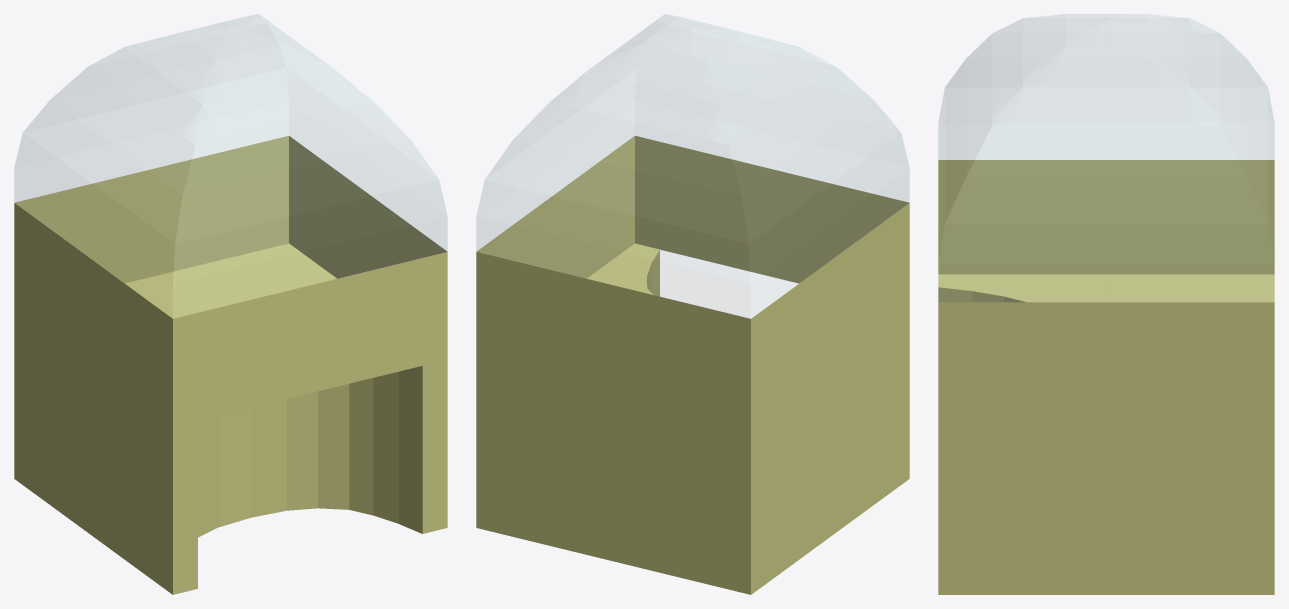
File: Building_Intelior.fbx
3 views of the same model, side by side, from view 1: azimuth 30°, elevation 25°; view 2: azimuth 150°, elevation 25°; view 3: azimuth 270°, elevation 25° (orthographic). The views are drawn at different scales.
Visible parts, largest first — view 1: pasted__roof (×2), floor; view 2: pasted__roof (×2), floor; view 3: pasted__roof (×2), floor.
Part boxes in pixels (left/top/right/bottom): pasted__roof (×2): left=14, top=14, right=447, bottom=426; floor: left=14, top=243, right=447, bottom=594; pasted__roof (×2): left=476, top=14, right=909, bottom=426; floor: left=476, top=243, right=909, bottom=594; pasted__roof (×2): left=938, top=14, right=1274, bottom=416; floor: left=938, top=274, right=1274, bottom=594.
Size of the model in its own units: 200 by 330 by 200.
